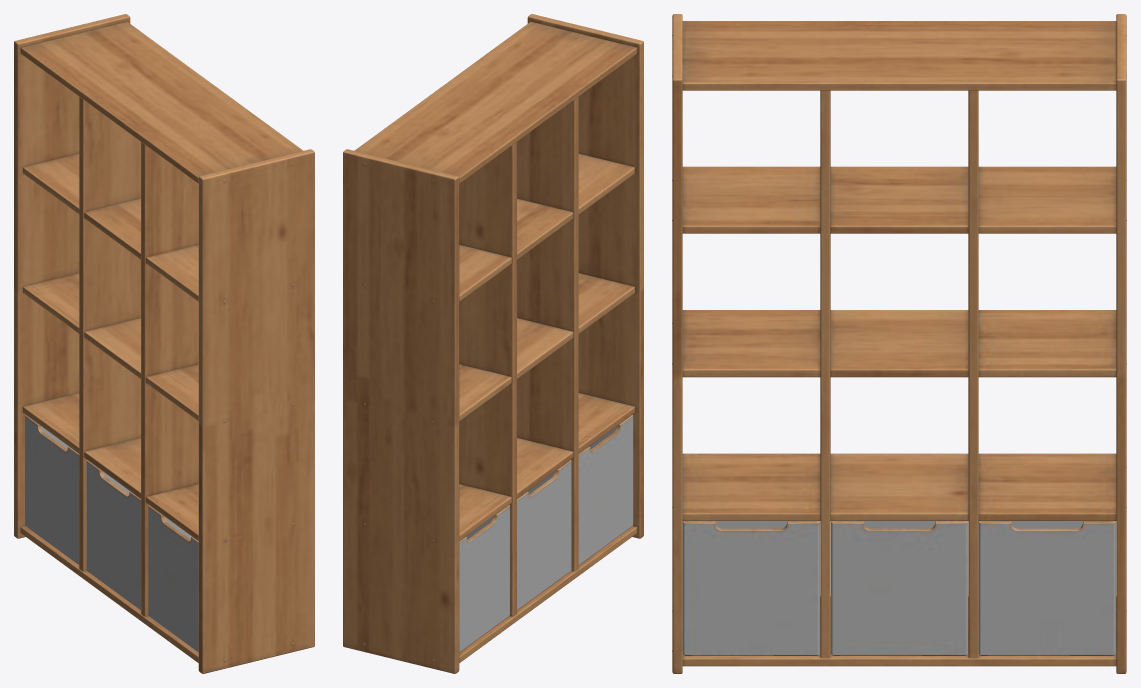
The model's file is wooden_display_shelves_01.glb.
The picture shows the model from 3 angles, left to right: view 1: azimuth 30°, elevation 25°; view 2: azimuth 150°, elevation 25°; view 3: azimuth 270°, elevation 25°; orthographic projection. The views are drawn at different scales.
Visible parts, largest first — view 1: wooden_display_shelves_01, wooden_display_shelves_01_drawer_01, wooden_display_shelves_01_drawer_02, wooden_display_shelves_01_drawer_03; view 2: wooden_display_shelves_01, wooden_display_shelves_01_drawer_03, wooden_display_shelves_01_drawer_02, wooden_display_shelves_01_drawer_01; view 3: wooden_display_shelves_01, wooden_display_shelves_01_drawer_03, wooden_display_shelves_01_drawer_01, wooden_display_shelves_01_drawer_02.
Part boxes in pixels (box(x1,y1,x2,y2)): wooden_display_shelves_01: box(14, 14, 314, 673); wooden_display_shelves_01_drawer_01: box(25, 415, 79, 565); wooden_display_shelves_01_drawer_02: box(86, 460, 140, 610); wooden_display_shelves_01_drawer_03: box(148, 505, 198, 652); wooden_display_shelves_01: box(343, 14, 643, 673); wooden_display_shelves_01_drawer_03: box(578, 415, 633, 565); wooden_display_shelves_01_drawer_02: box(517, 460, 571, 610); wooden_display_shelves_01_drawer_01: box(459, 505, 509, 652); wooden_display_shelves_01: box(672, 14, 1126, 673); wooden_display_shelves_01_drawer_03: box(682, 521, 819, 655); wooden_display_shelves_01_drawer_01: box(978, 521, 1115, 655); wooden_display_shelves_01_drawer_02: box(831, 521, 967, 655).
Bounding box in the file's own units: 0.3715 × 1.56 × 1.08.
1 material, 1 textured.
